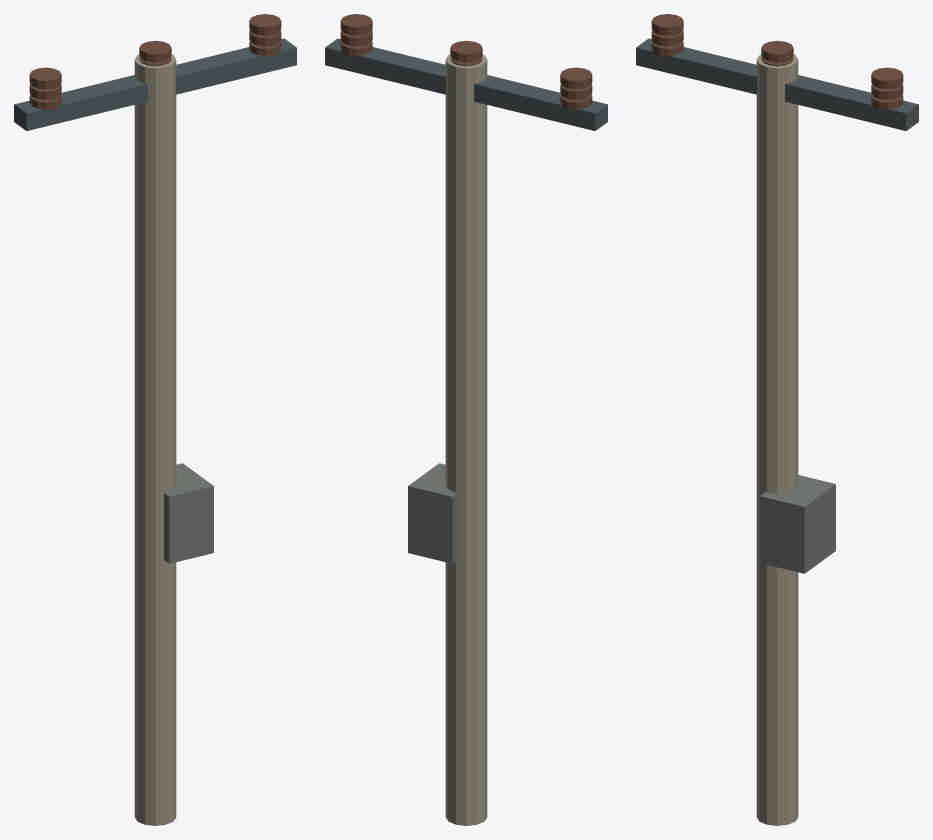
The model's file is 044_power_pole.glb.
3 renders of one model, left to right at view 1: azimuth 30°, elevation 25°; view 2: azimuth 150°, elevation 25°; view 3: azimuth 330°, elevation 25°, orthographic.
Parts seen in each view (by area): view 1: Power pole; view 2: Power pole; view 3: Power pole.
Part boxes in pixels (x1,y1,x2,y2): Power pole: (14, 14, 296, 825); Power pole: (325, 14, 607, 825); Power pole: (636, 14, 918, 825).
Bounding box in the file's own units: 2.24 × 6.09 × 0.45.
